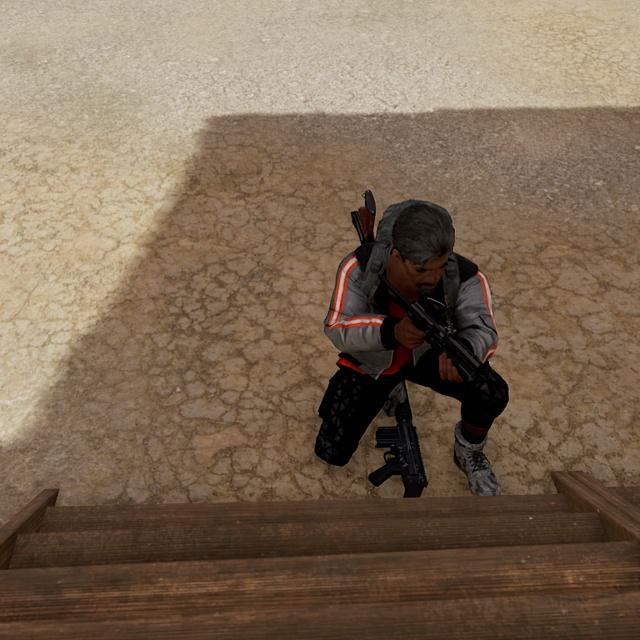head: (385, 197, 462, 296)
people: (308, 195, 514, 509)
